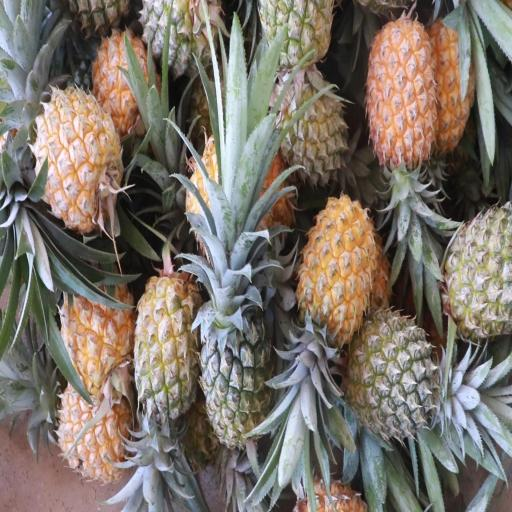------------------------------: (135, 276, 199, 448)
Pineapple - v8 v1: (367, 19, 438, 253), (302, 193, 373, 422), (26, 96, 125, 230), (56, 267, 138, 400), (94, 34, 162, 140), (430, 15, 478, 162), (54, 396, 131, 484)
